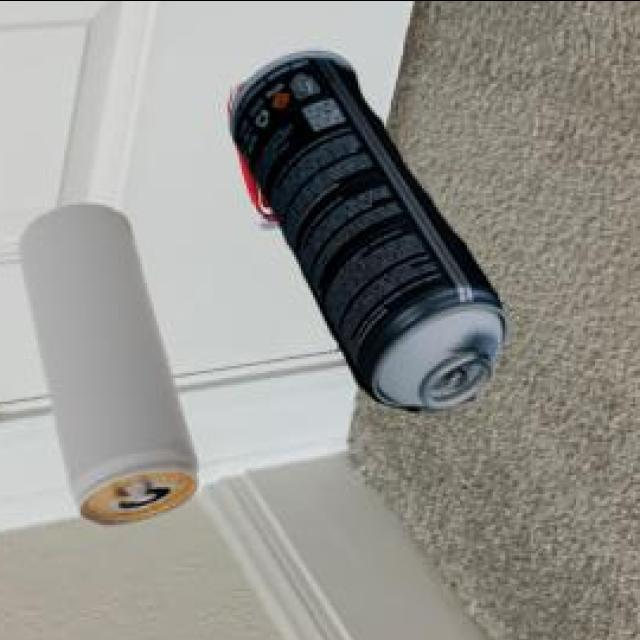logam: (226, 46, 506, 407), (15, 200, 193, 520), (224, 78, 276, 224)
